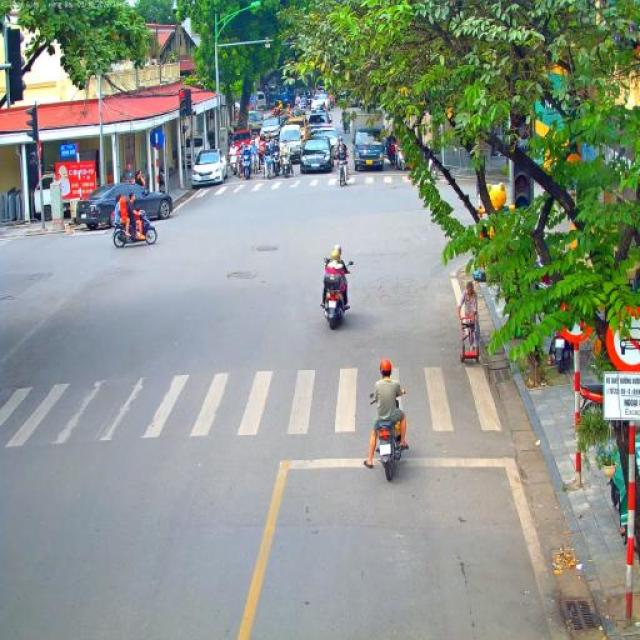car: (75, 182, 173, 230), (190, 147, 228, 186), (300, 137, 334, 174), (280, 125, 304, 165), (228, 129, 256, 160), (310, 127, 340, 149), (258, 118, 284, 142), (286, 116, 308, 144), (308, 110, 332, 130), (247, 111, 262, 137), (311, 93, 328, 115)
motorcycle: (369, 389, 406, 481), (322, 258, 353, 330), (112, 210, 158, 248), (550, 328, 576, 374), (578, 384, 604, 404), (280, 146, 295, 178), (336, 158, 350, 187), (238, 155, 252, 180), (272, 152, 283, 178), (262, 154, 273, 180), (227, 153, 238, 177), (252, 150, 262, 174), (396, 150, 406, 170), (388, 148, 398, 167), (382, 142, 390, 164), (341, 121, 350, 133)
truck: (351, 112, 387, 172), (25, 171, 61, 221), (267, 85, 295, 111), (248, 91, 266, 111)
